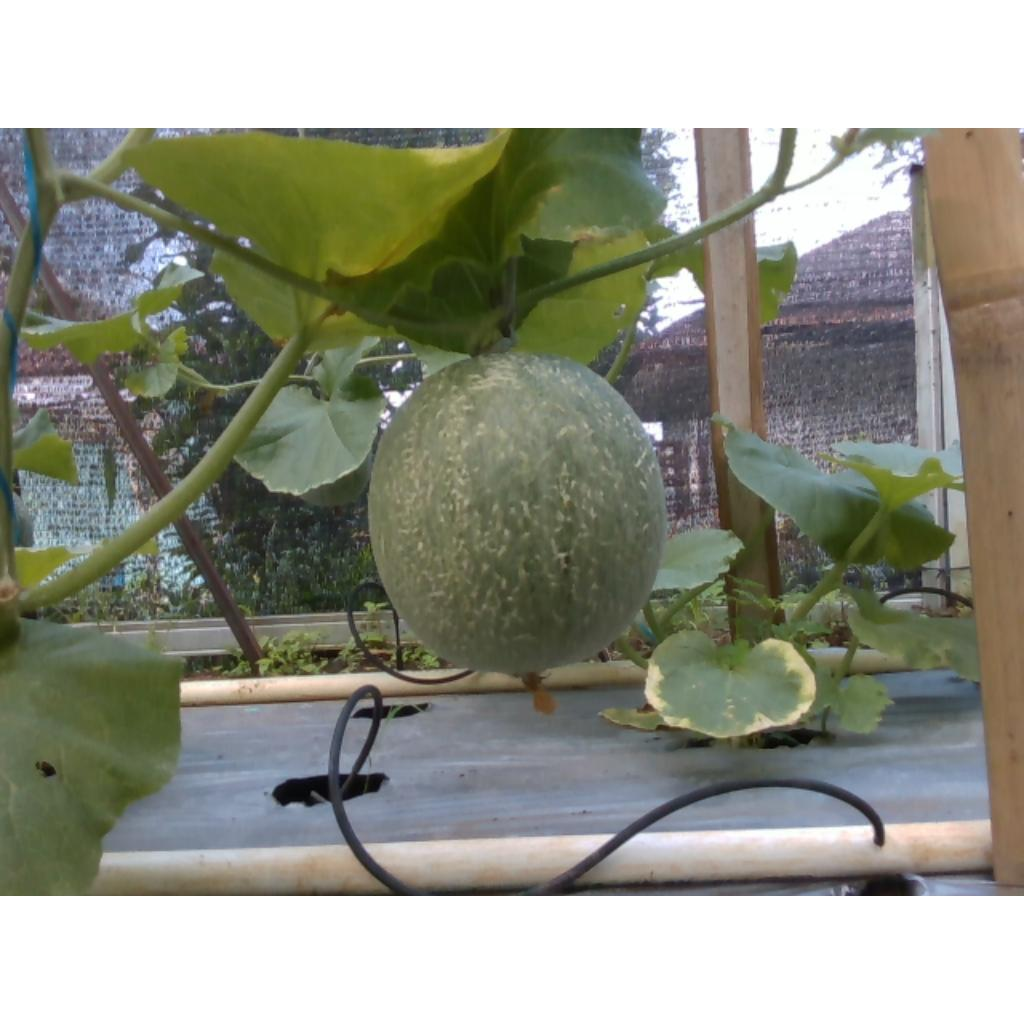melon: (370, 352, 667, 674)
